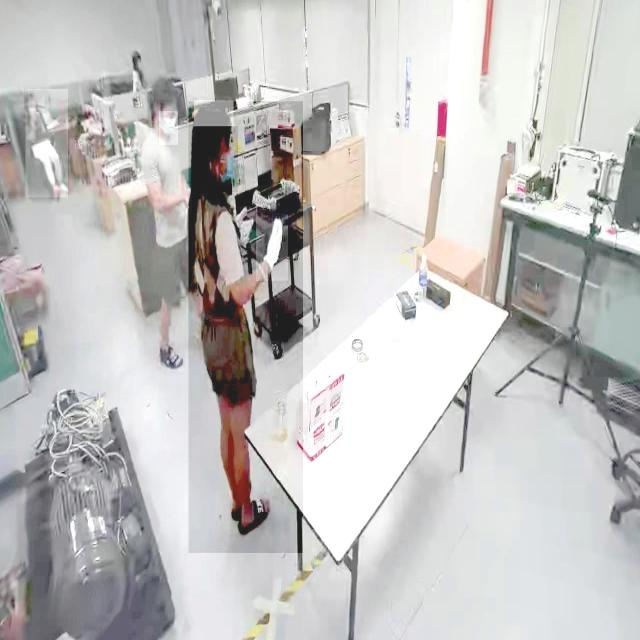face_mask: (218, 126, 238, 192), (159, 111, 178, 145)
hand_glove: (256, 203, 288, 281)
head_nohelmet: (194, 101, 234, 127), (148, 76, 176, 100), (131, 49, 141, 57), (24, 90, 34, 97)
person: (188, 101, 303, 554), (140, 71, 198, 384), (25, 89, 68, 198)
shoes: (157, 341, 187, 374)
